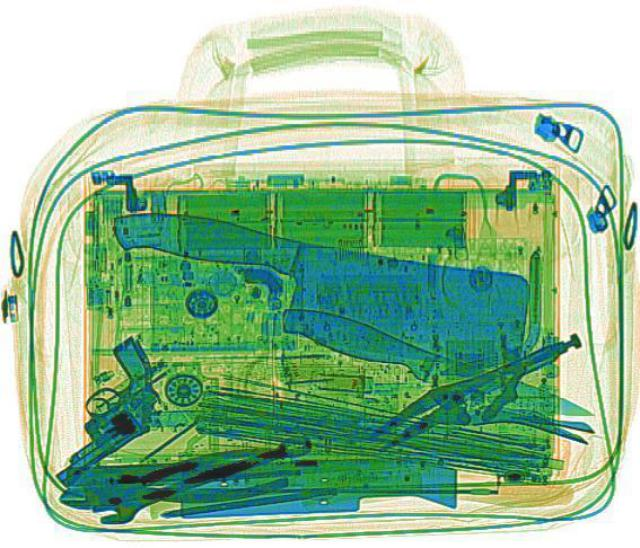Gun: (0, 333, 196, 484)
Knife: (90, 200, 542, 370), (271, 297, 597, 430)
Pliers: (52, 436, 292, 524)
Wrench: (84, 421, 316, 527)
